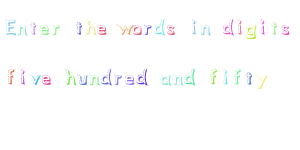E: (2, 16, 16, 39)
a: (158, 70, 171, 88)
d: (219, 16, 235, 38), (184, 66, 197, 91), (100, 66, 113, 88), (153, 16, 165, 39)
e: (122, 71, 137, 89), (95, 19, 109, 38), (41, 72, 55, 88), (38, 21, 50, 39)
f: (204, 66, 219, 87), (3, 65, 17, 87), (231, 66, 243, 87)
g: (244, 22, 258, 42)
h: (85, 14, 97, 38), (62, 67, 76, 87)
i: (187, 16, 199, 37), (16, 67, 28, 87), (257, 17, 268, 37), (220, 69, 231, 88), (235, 17, 244, 39)
n: (172, 71, 184, 89), (199, 24, 213, 38), (16, 23, 29, 38), (89, 71, 100, 88)
o: (131, 21, 143, 38)
r: (50, 23, 62, 38), (142, 21, 153, 37), (112, 72, 123, 88)
s: (135, 63, 148, 92), (280, 21, 293, 39), (166, 23, 176, 37)
t: (27, 18, 39, 37), (72, 19, 84, 36), (269, 21, 279, 38), (244, 70, 254, 87)
u: (75, 71, 89, 87)
v: (28, 72, 42, 88)
w: (114, 19, 133, 36)
y: (255, 70, 269, 95)
